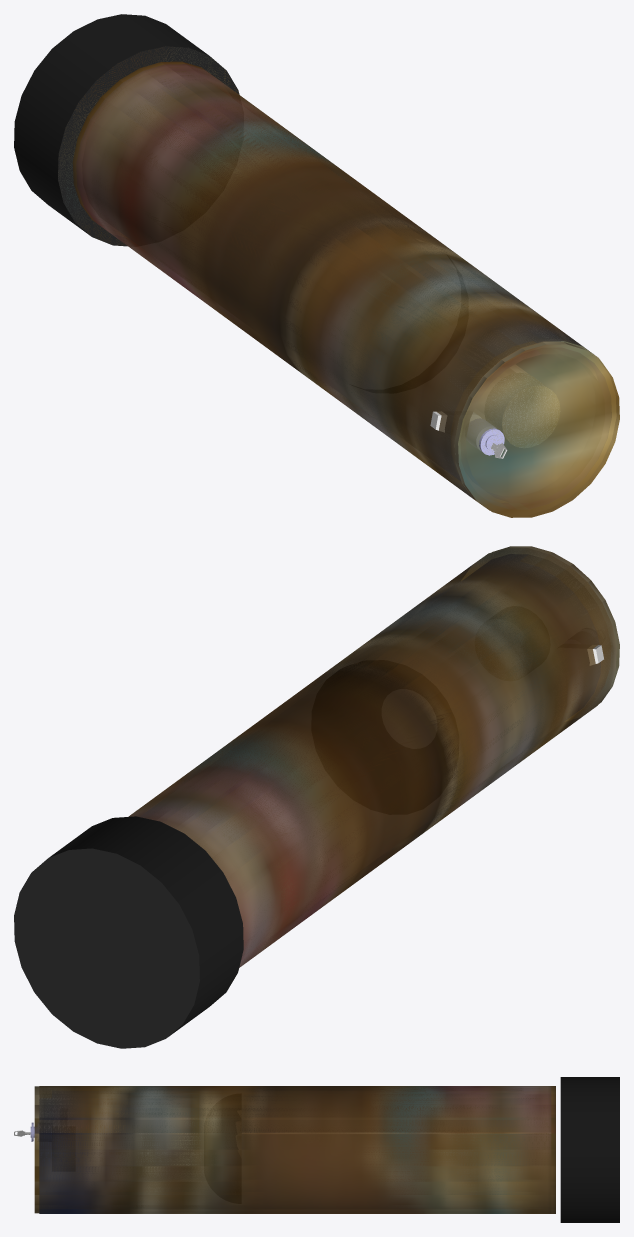
File: model_scale.obj
The picture shows the model from 3 angles, top to bottom: view 1: azimuth 30°, elevation 25°; view 2: azimuth 150°, elevation 25°; view 3: azimuth 270°, elevation 25°; orthographic projection. The views are drawn at different scales.
Parts seen in each view (by area): view 1: mesh4_mesh4-geometry, mesh7_mesh7-geometry, mesh5_mesh5-geometry, mesh6_mesh6-geometry, mesh1_mesh1-geometry, mesh8_mesh8-geometry; view 2: mesh4_mesh4-geometry, mesh5_mesh5-geometry, mesh6_mesh6-geometry, mesh7_mesh7-geometry; view 3: mesh4_mesh4-geometry, mesh5_mesh5-geometry, mesh7_mesh7-geometry, mesh2_mesh2-geometry.
Boxes of the visible parts, x1,y1,x2,y2 form: mesh4_mesh4-geometry: [72, 61, 615, 514]; mesh7_mesh7-geometry: [454, 342, 619, 517]; mesh5_mesh5-geometry: [14, 14, 239, 246]; mesh6_mesh6-geometry: [451, 341, 610, 508]; mesh1_mesh1-geometry: [484, 373, 559, 447]; mesh8_mesh8-geometry: [466, 418, 504, 455]; mesh4_mesh4-geometry: [128, 547, 616, 967]; mesh5_mesh5-geometry: [14, 816, 243, 1048]; mesh6_mesh6-geometry: [521, 555, 610, 705]; mesh7_mesh7-geometry: [492, 546, 619, 703]; mesh4_mesh4-geometry: [39, 1086, 555, 1213]; mesh5_mesh5-geometry: [560, 1077, 619, 1222]; mesh7_mesh7-geometry: [34, 1086, 39, 1213]; mesh2_mesh2-geometry: [242, 1133, 550, 1133].
Bounding box in the file's own units: 0.0348 × 0.0348 × 0.1447.
